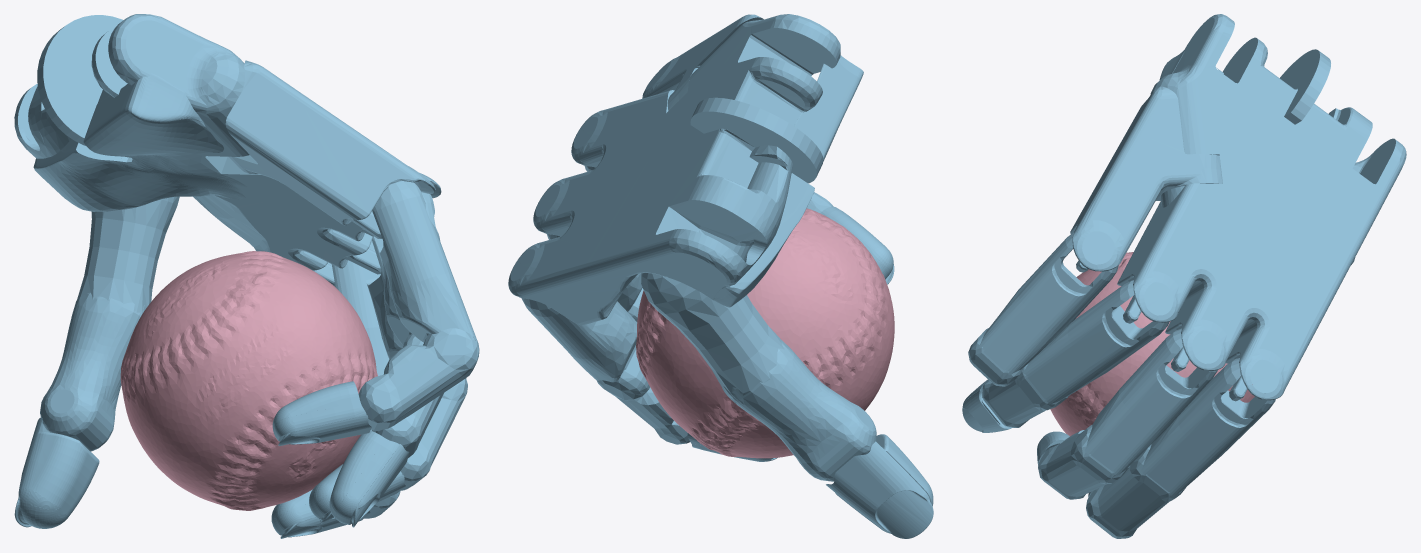
3 views of the same model, side by side, from view 1: azimuth 30°, elevation 25°; view 2: azimuth 150°, elevation 25°; view 3: azimuth 270°, elevation 25° (orthographic). The views are drawn at different scales.
Visible parts, largest first — view 1: world; view 2: world; view 3: world.
Boxes of the visible parts, x1,y1,x2,y2 form: world: (14, 14, 479, 538); world: (508, 14, 933, 538); world: (962, 14, 1406, 538).
Bounding box in the file's own units: 0.1319 × 0.1591 × 0.144.
